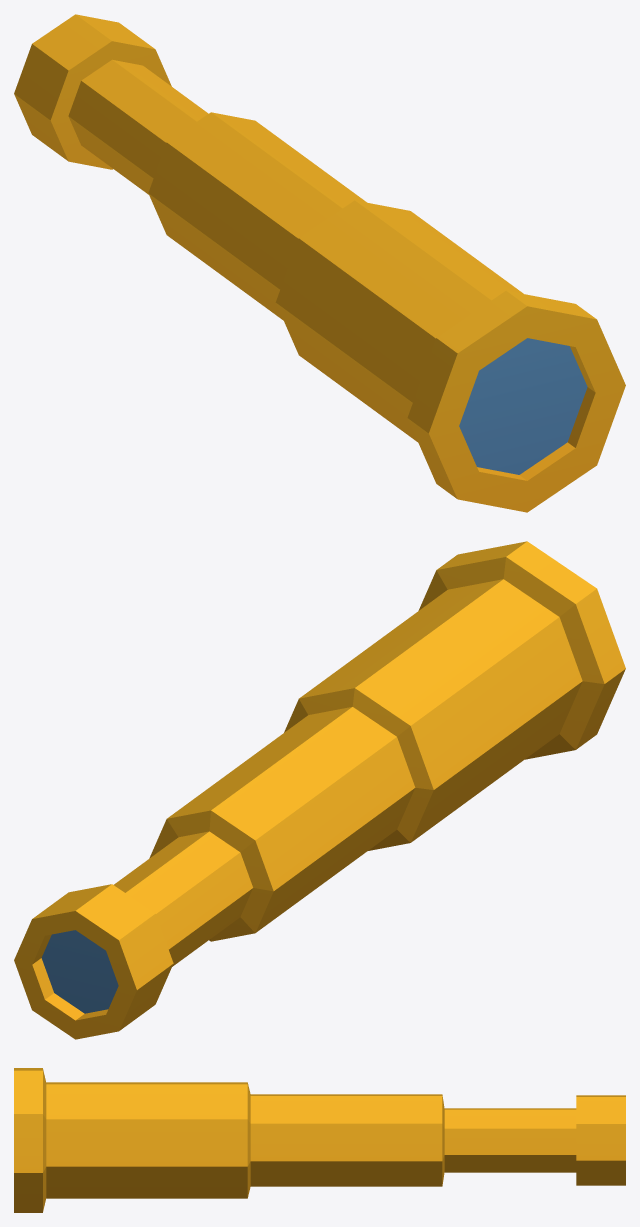
Rendered from Telescope.fbx.
3 renders of one model, top to bottom at view 1: azimuth 30°, elevation 25°; view 2: azimuth 150°, elevation 25°; view 3: azimuth 270°, elevation 25°, orthographic. The views are drawn at different scales.
Parts seen in each view (by area): view 1: Telescope; view 2: Telescope; view 3: Telescope.
Boxes of the visible parts, x1,y1,x2,y2 form: Telescope: (14,14,625,512); Telescope: (14,541,625,1039); Telescope: (14,1068,625,1212).
Size of the model in its own units: 0.2247 by 0.2247 by 0.8919.
